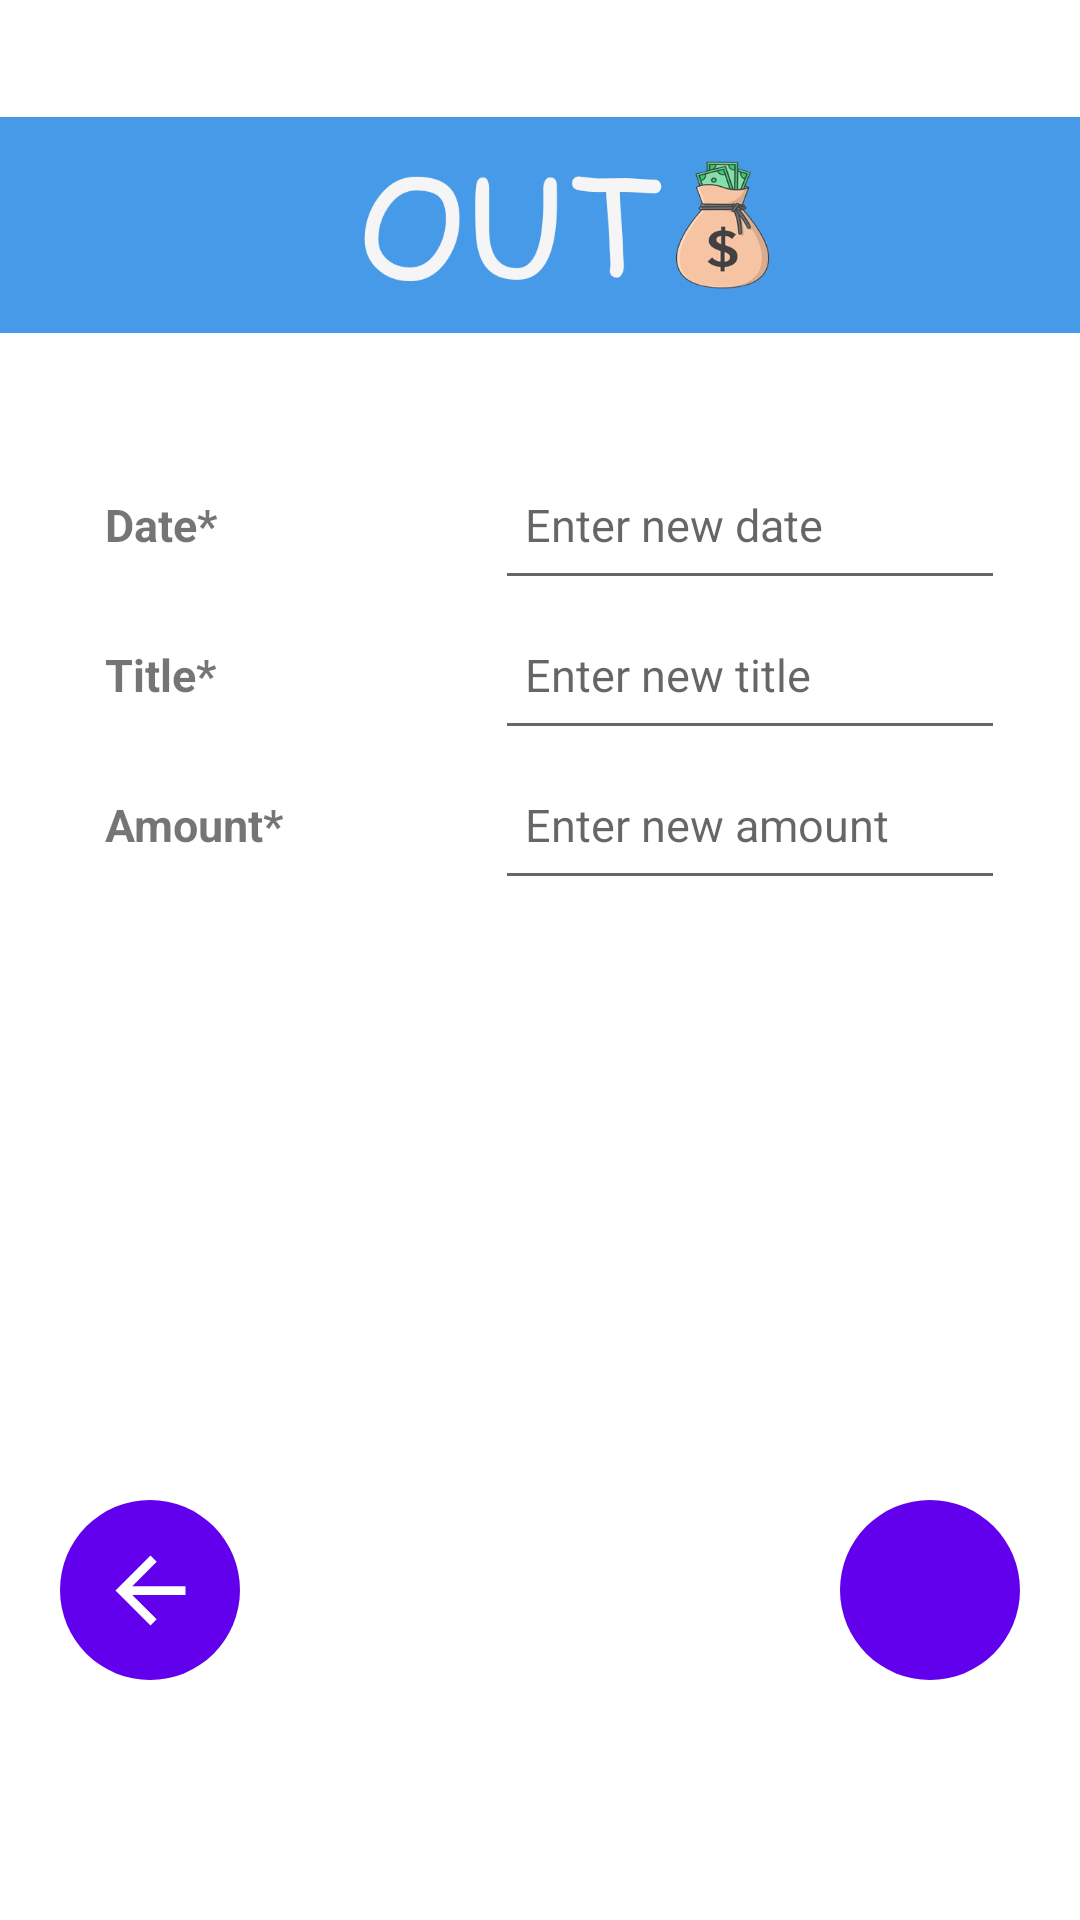

Named icons in this screenshot (1080px×1920px) and their centers, (x,y):
arrow back: (150,1590)
